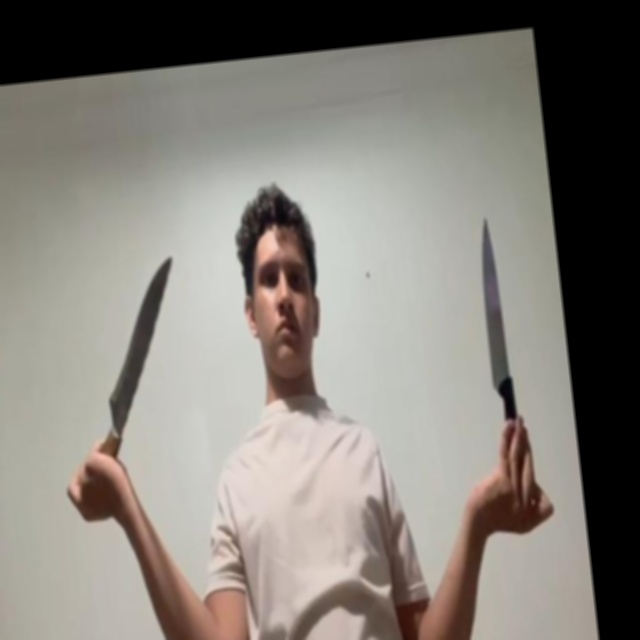Sharp-Object: (94, 257, 188, 429), (474, 217, 511, 386)
